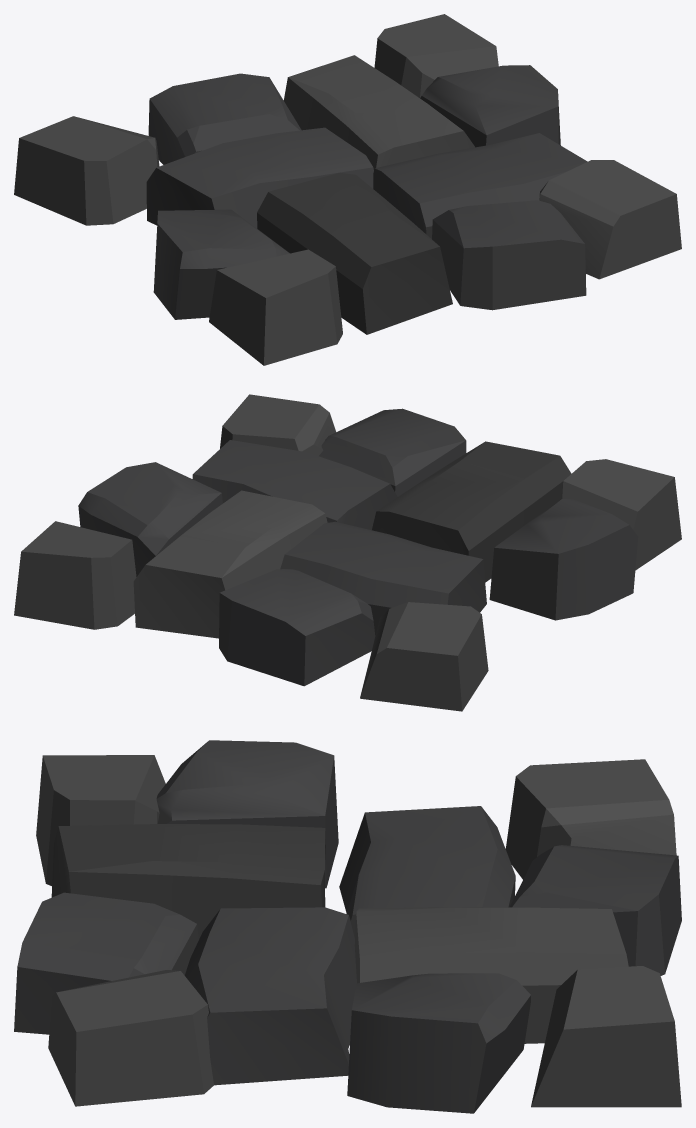
File: ea01_env_road_cobble_02a_pre_13_lev1.glb
3 views of the same model, one above another, from view 1: azimuth 30°, elevation 25°; view 2: azimuth 150°, elevation 25°; view 3: azimuth 270°, elevation 25° (orthographic). The views are drawn at different scales.
Parts seen in each view (by area): view 1: ea01_env_road_cobble_02a_pre_13_lev1; view 2: ea01_env_road_cobble_02a_pre_13_lev1; view 3: ea01_env_road_cobble_02a_pre_13_lev1.
Part boxes in pixels (x1=…): ea01_env_road_cobble_02a_pre_13_lev1: x1=14, y1=14, x2=681, y2=365; ea01_env_road_cobble_02a_pre_13_lev1: x1=14, y1=394, x2=681, y2=711; ea01_env_road_cobble_02a_pre_13_lev1: x1=14, y1=740, x2=681, y2=1113.
Size of the model in its own units: 2.51 by 0.3708 by 2.44.
Materials: 1 (1 with a texture image).
